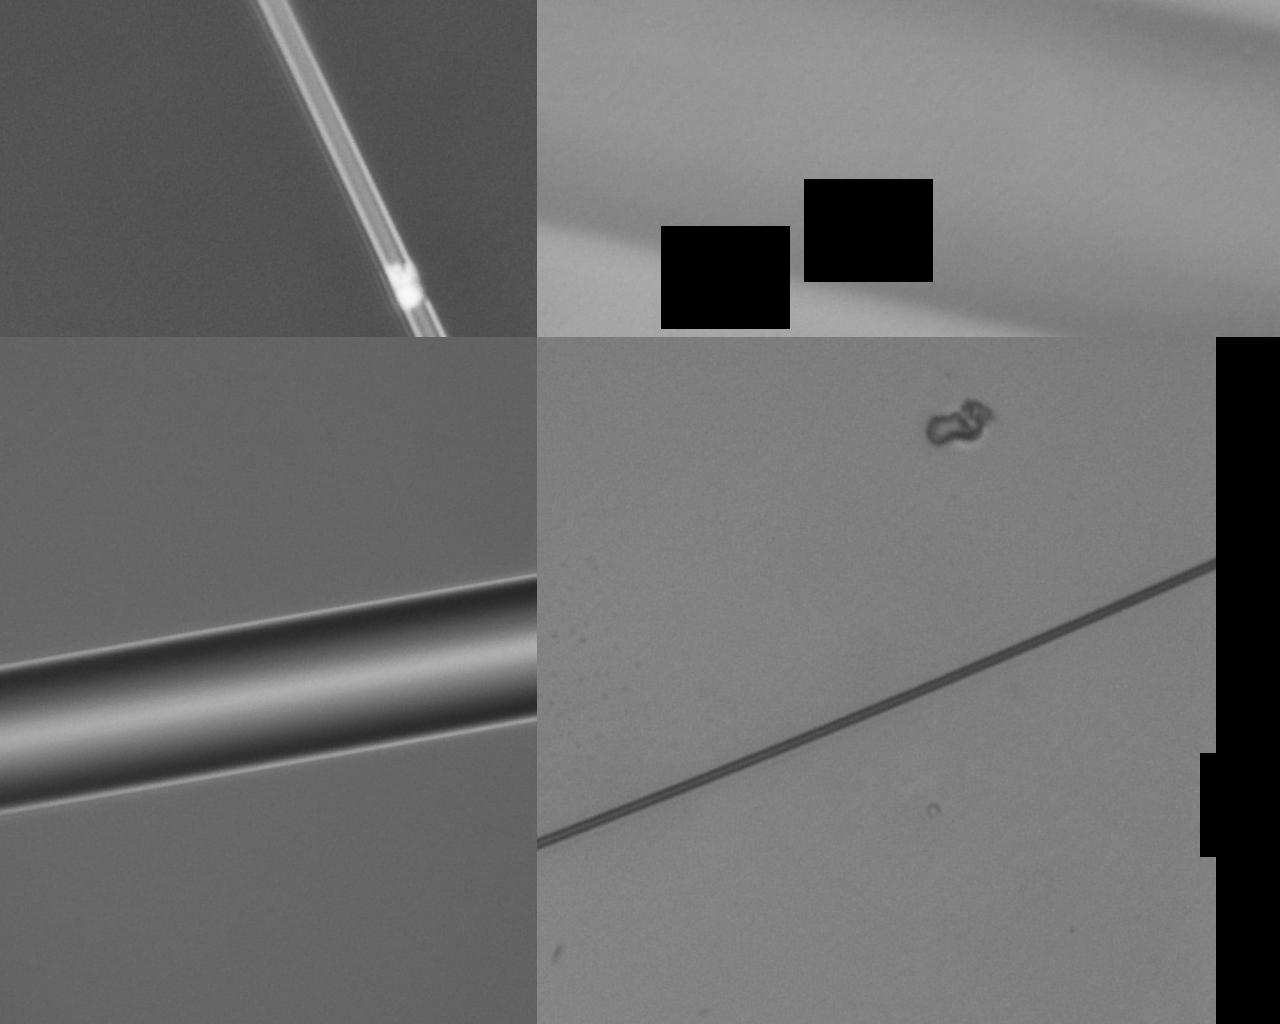fiber: (127, 364, 1151, 754)
